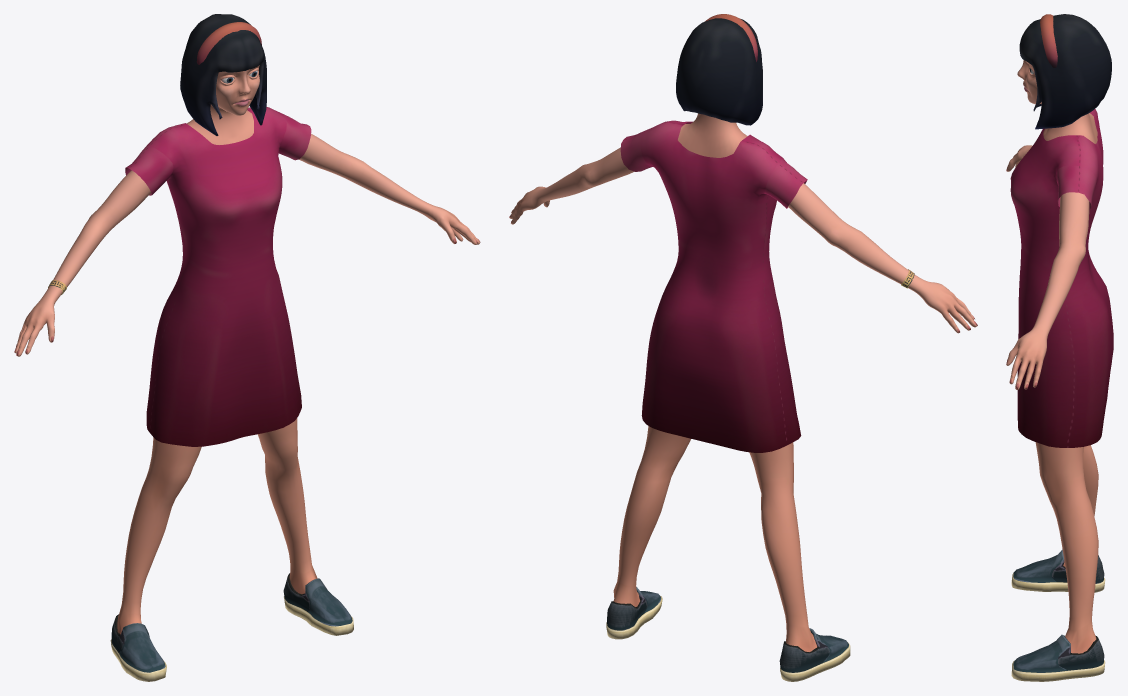
3 views of the same model, side by side, from view 1: azimuth 30°, elevation 25°; view 2: azimuth 150°, elevation 25°; view 3: azimuth 270°, elevation 25° (orthographic).
Parts seen in each view (by area): view 1: Anita_Dress, Anita_Body, Hair, Anita_Shoes, HairBand; view 2: Anita_Dress, Anita_Body, Hair, Anita_Shoes; view 3: Anita_Dress, Anita_Body, Hair, Anita_Shoes, HairBand.
Boxes of the visible parts, x1=… form: Anita_Dress: x1=125, y1=107, x2=311, y2=446; Anita_Body: x1=14, y1=65, x2=480, y2=634; Hair: x1=180, y1=14, x2=266, y2=135; Anita_Shoes: x1=110, y1=573, x2=353, y2=681; HairBand: x1=196, y1=22, x2=261, y2=64; Anita_Dress: x1=620, y1=120, x2=807, y2=452; Anita_Body: x1=509, y1=113, x2=977, y2=651; Hair: x1=676, y1=18, x2=762, y2=125; Anita_Shoes: x1=606, y1=587, x2=850, y2=681; Anita_Dress: x1=1010, y1=109, x2=1113, y2=447; Anita_Body: x1=1006, y1=60, x2=1098, y2=653; Hair: x1=1019, y1=14, x2=1111, y2=129; Anita_Shoes: x1=1011, y1=549, x2=1105, y2=681; HairBand: x1=1040, y1=14, x2=1057, y2=67.
Size of the model in its own units: 1.56 by 2 by 0.3184.
8 materials, 8 textured.
